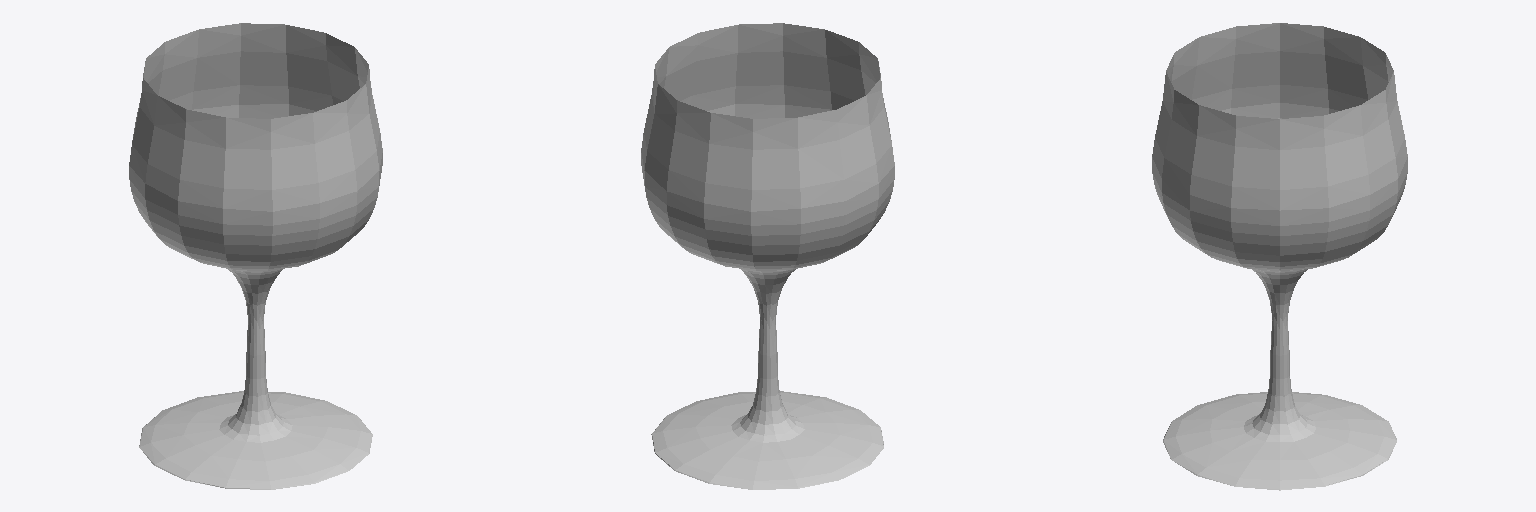
File: taca2.obj
3 views of the same model, side by side, from view 1: azimuth 30°, elevation 25°; view 2: azimuth 150°, elevation 25°; view 3: azimuth 270°, elevation 25° (orthographic).
Parts seen in each view (by area): view 1: Curve_Mesh; view 2: Curve_Mesh; view 3: Curve_Mesh.
Part boxes in pixels (left/top/right/bottom): Curve_Mesh: left=129, top=23, right=382, bottom=489; Curve_Mesh: left=641, top=23, right=894, bottom=489; Curve_Mesh: left=1152, top=23, right=1407, bottom=490.
Bounding box in the file's own units: 0.6268 × 1 × 0.6268.